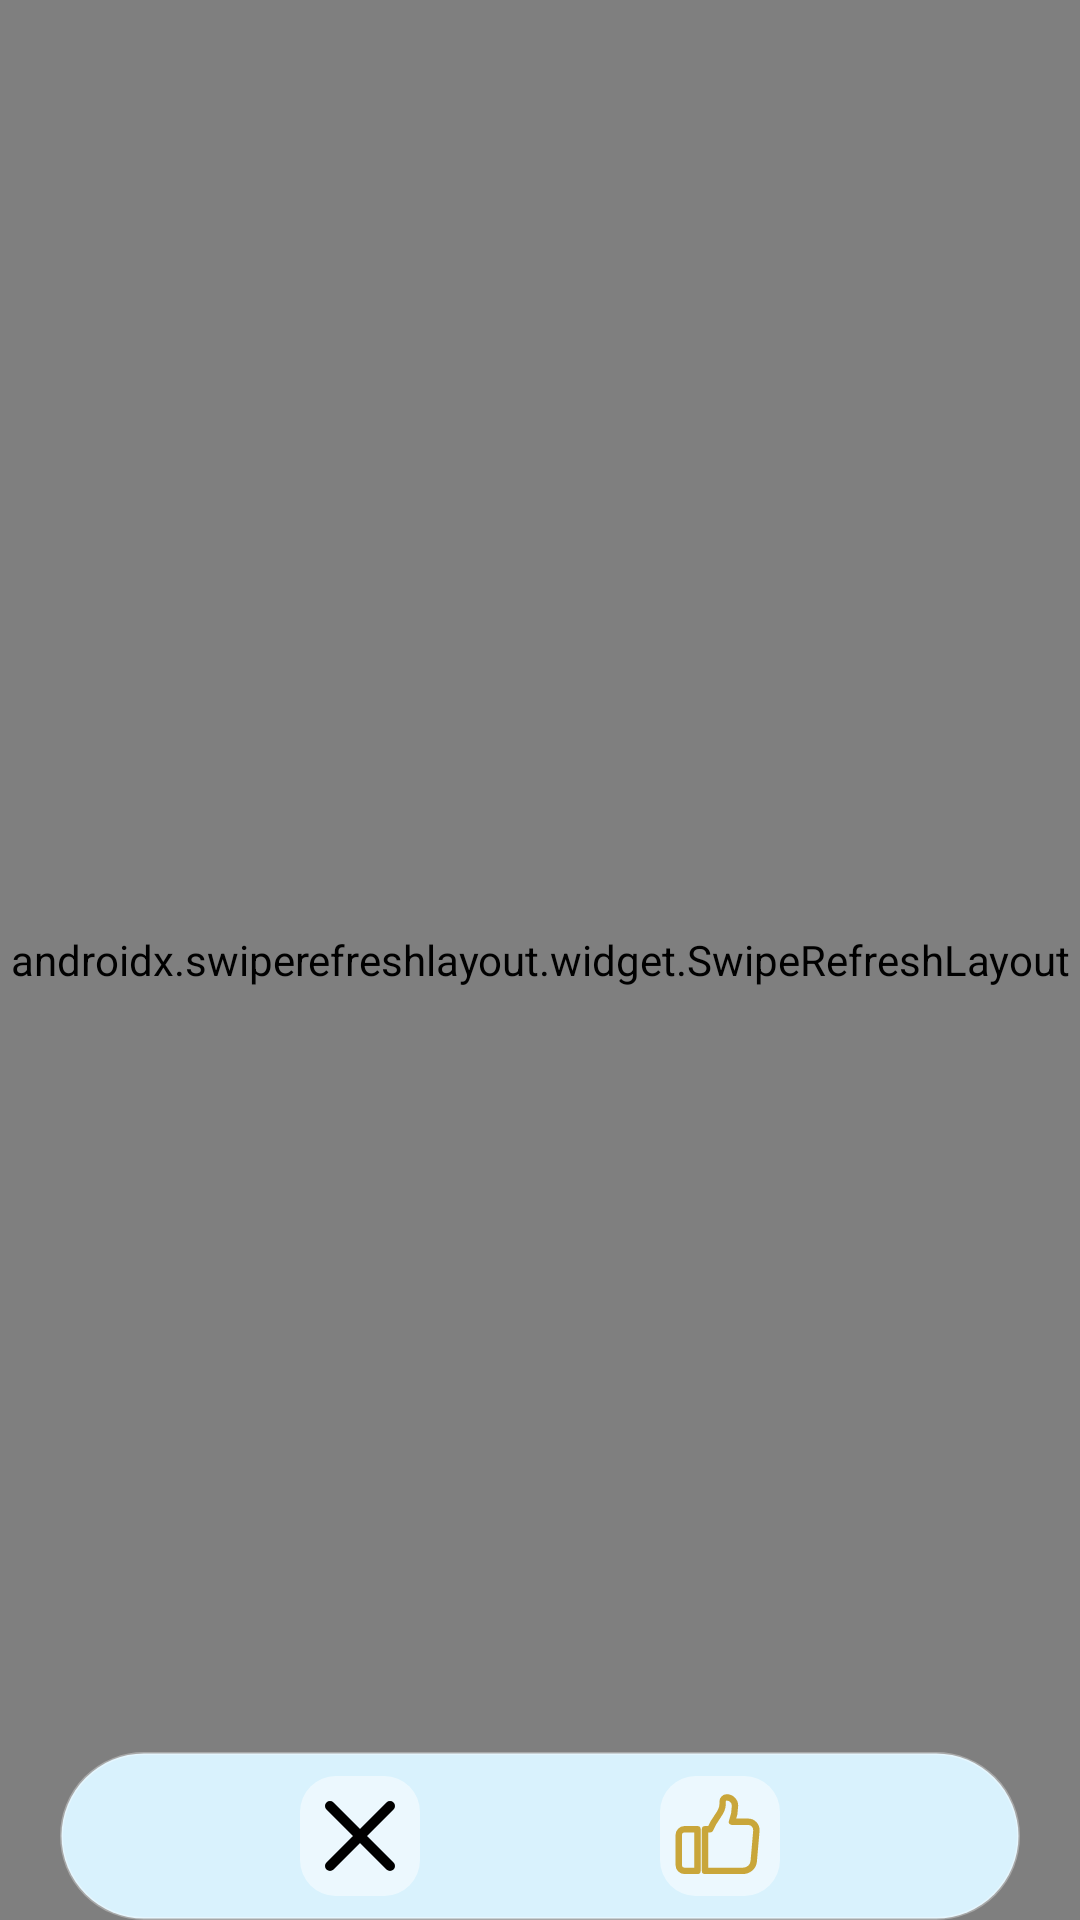

Named icons in this screenshot (1080×1920) and their centers, (x=x, y=y):
close: (x=360, y=1836)
like: (x=720, y=1836)
